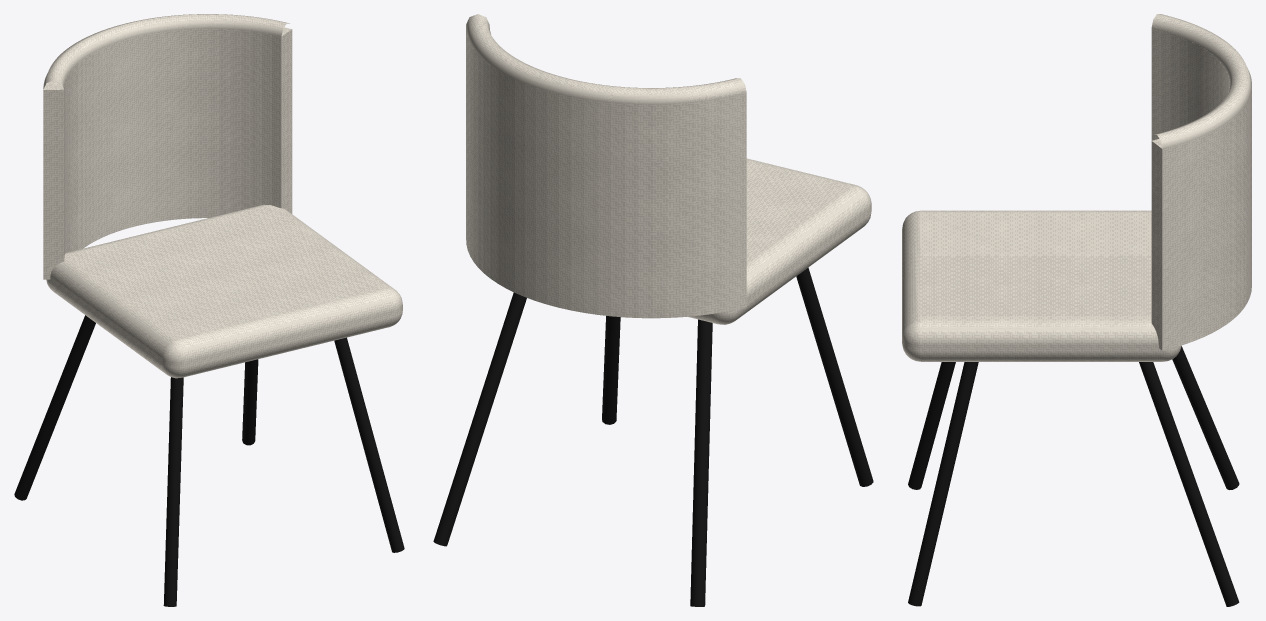
Rendered from silla-comedor.glb.
3 renders of one model, left to right at view 1: azimuth 30°, elevation 25°; view 2: azimuth 150°, elevation 25°; view 3: azimuth 270°, elevation 25°, orthographic. The views are drawn at different scales.
Visible parts, largest first — view 1: silla-comedor; view 2: silla-comedor; view 3: silla-comedor.
Part boxes in pixels (x1,y1,x2,y2): silla-comedor: [14, 14, 404, 606]; silla-comedor: [433, 14, 873, 606]; silla-comedor: [902, 14, 1251, 606].
Bounding box in the file's own units: 0.48 × 0.82 × 0.55.
2 materials, 1 textured.
